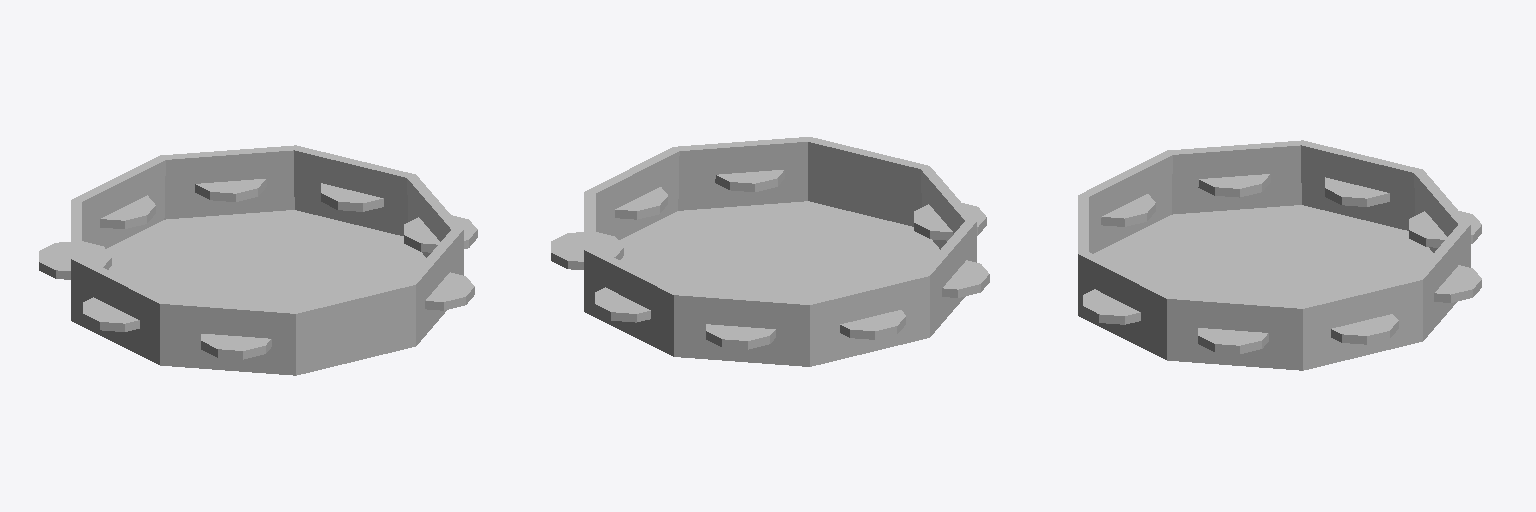
Rendered from Tammy.mtl.obj.
3 views of the same model, side by side, from view 1: azimuth 30°, elevation 25°; view 2: azimuth 150°, elevation 25°; view 3: azimuth 270°, elevation 25° (orthographic).
Parts seen in each view (by area): view 1: Tammy.mtl; view 2: Tammy.mtl; view 3: Tammy.mtl.
Boxes of the visible parts, <box> form: Tammy.mtl: <box>39,145,477,375</box>; Tammy.mtl: <box>551,137,989,366</box>; Tammy.mtl: <box>1078,140,1481,370</box>.
Bounding box in the file's own units: 2.2 × 0.3369 × 2.